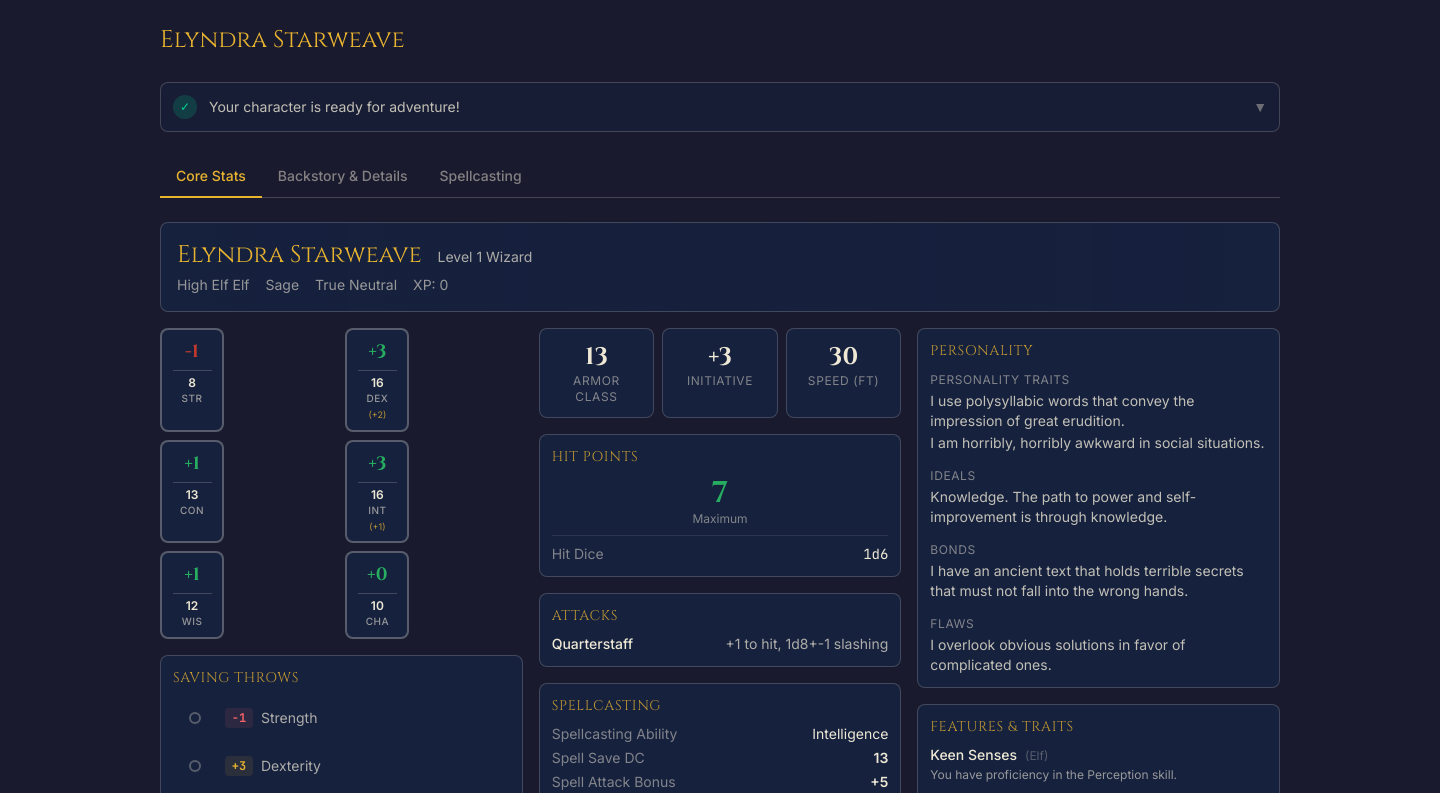
Scenario: Story 15.1 — Character Sheet Preview › Tab Navigation › should switch between tabs on click
Note: Click Backstory tab
Click the tab with test id "tab-backstory" at [343, 177], box [262,156,424,198]
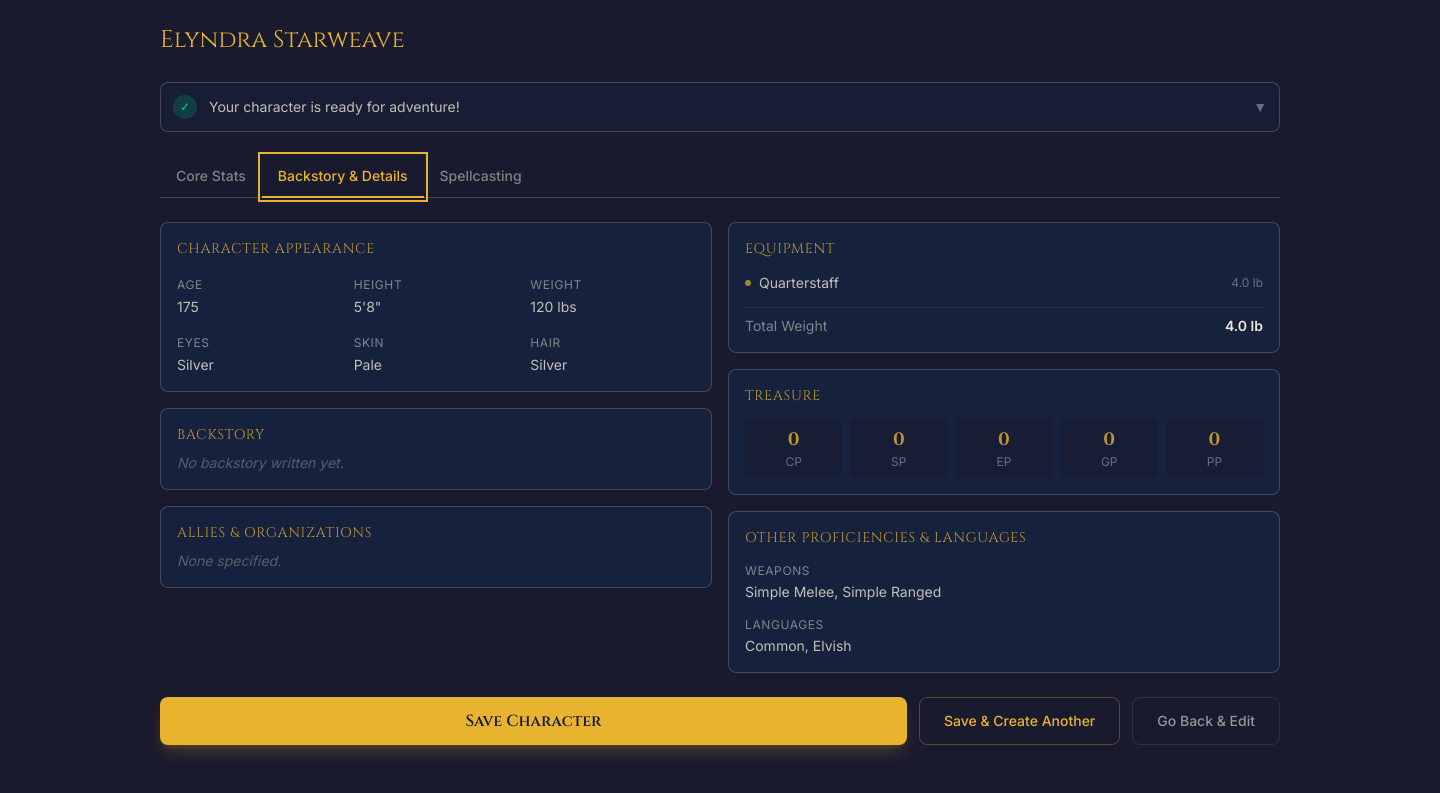
Result: the element with test id "preview-page-2" is shown at [160,222,1280,673]
